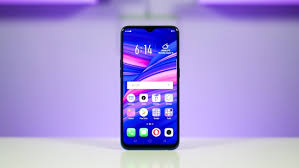oppo: (119, 23, 181, 152)
